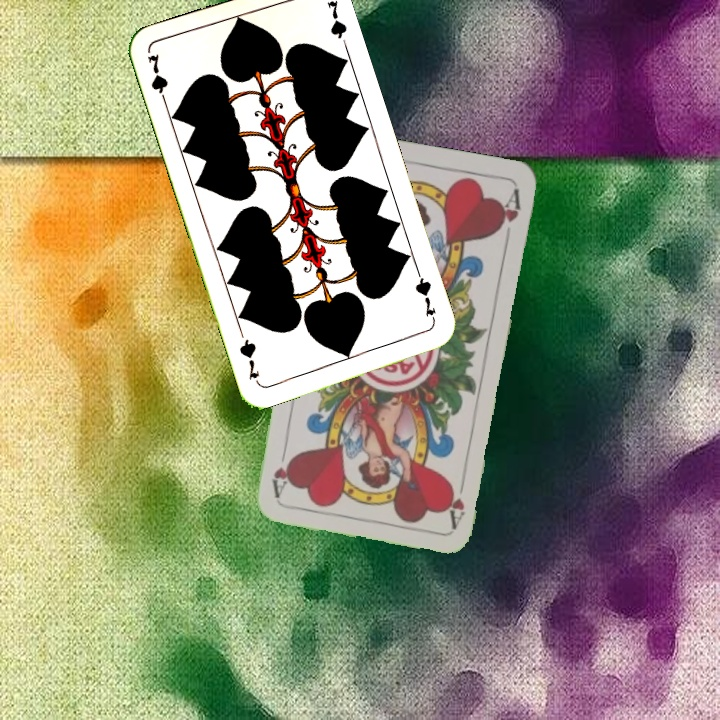G7: (143, 49, 171, 108), (411, 268, 439, 326)
HA: (445, 470, 469, 529)
